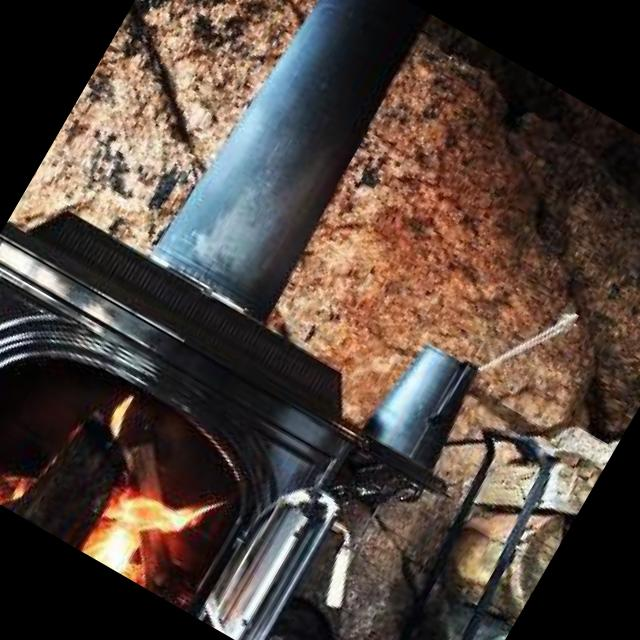fire: (75, 410, 252, 604), (0, 425, 49, 517)
